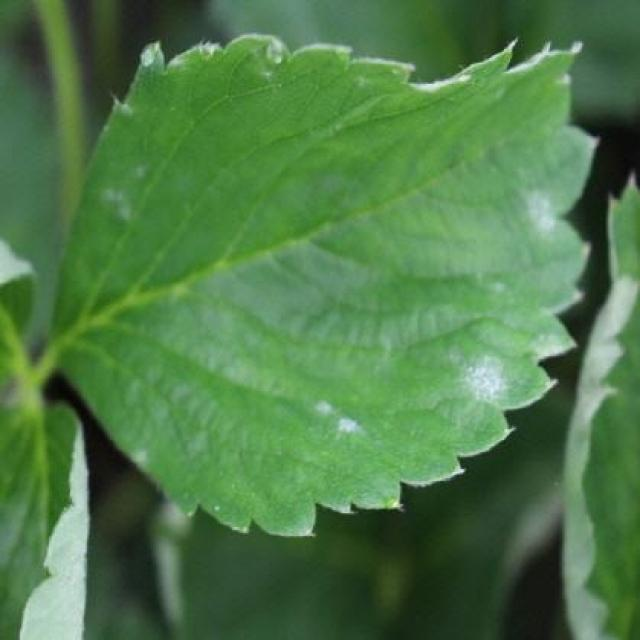powdery_mildew_leaf: (46, 31, 602, 539), (558, 170, 638, 638), (0, 399, 90, 638)
